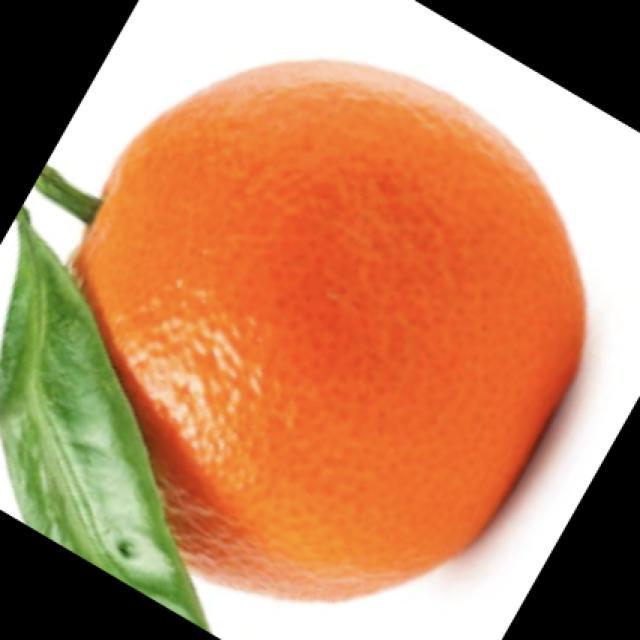Orange: (64, 56, 588, 603)
